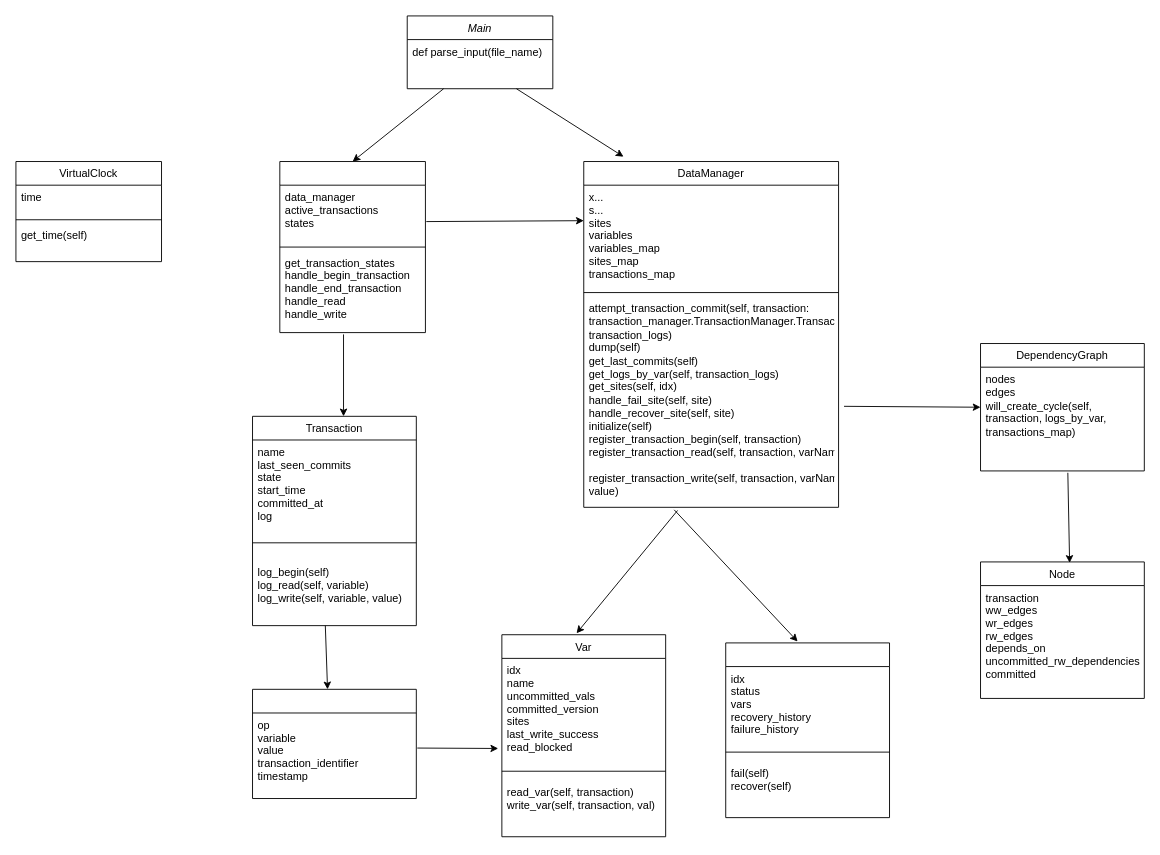
This 1160x855 diagram has some shape labels left out. The box of each missing label's shape, as (x1, y1, x2, y2) in pixels:
Site: (725, 642, 890, 818)
TransactionLogEntry: (252, 688, 416, 799)
TransactionManager: (279, 161, 425, 333)
